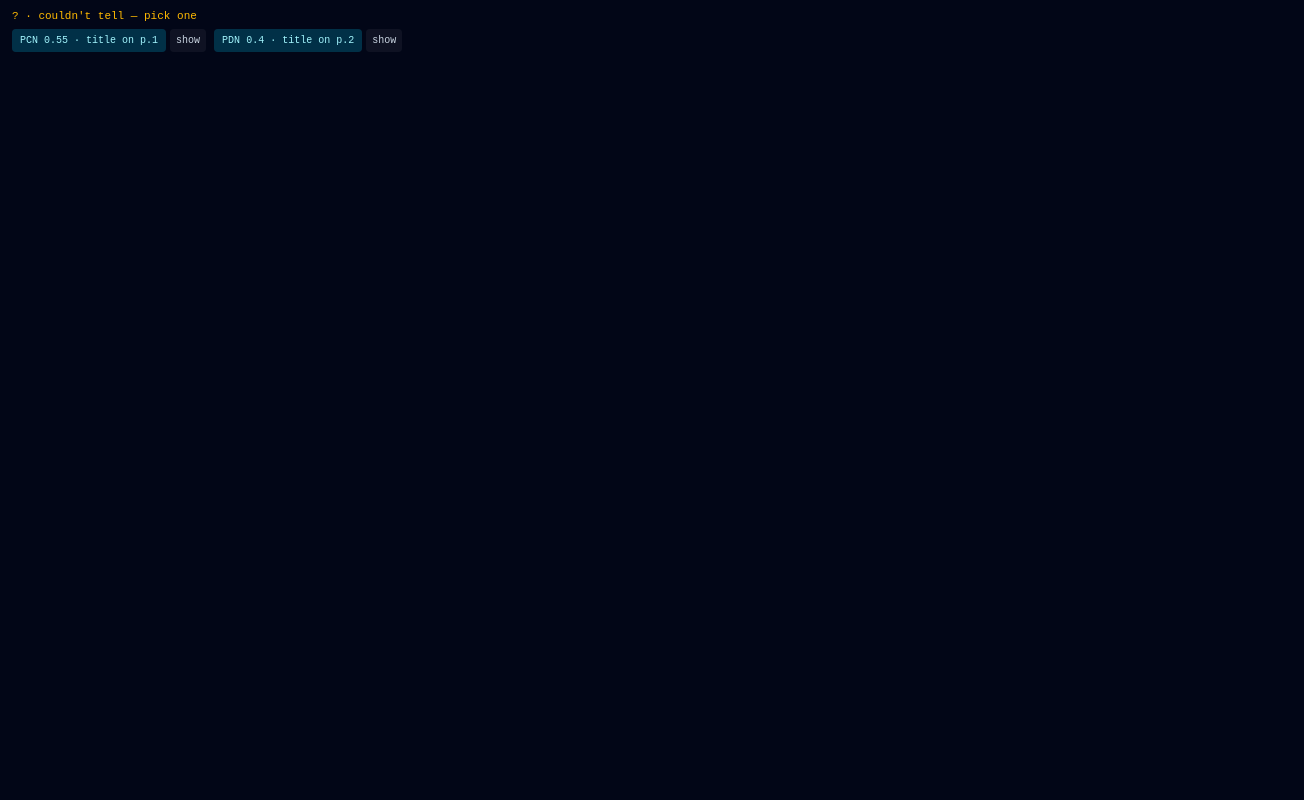
Test case: IngestLeafChip › the candidate's crop › the caption names the title the read used
Click the 2nd button "show" at (384, 40), box [366, 28, 402, 52]
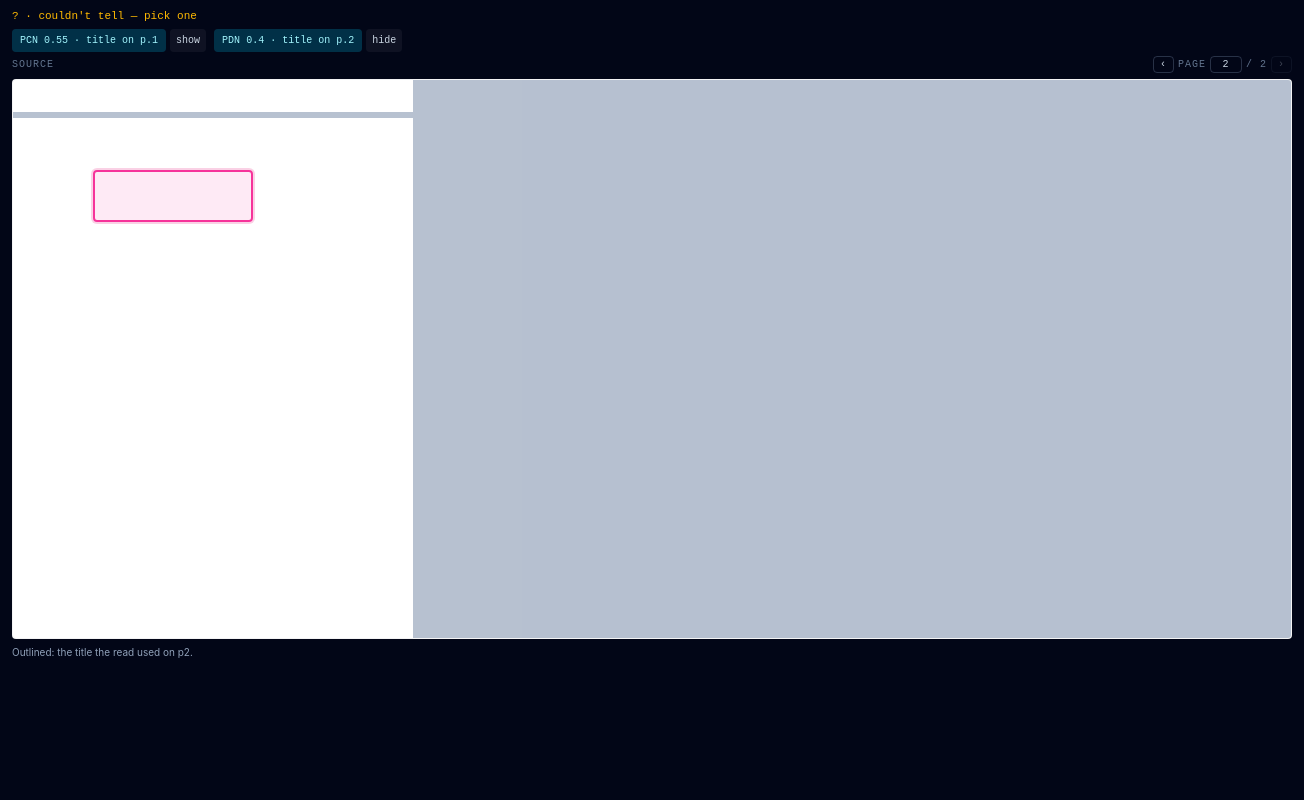
Check: the text "Outlined: the title the read used on p2." is shown, box [12, 646, 193, 658]
